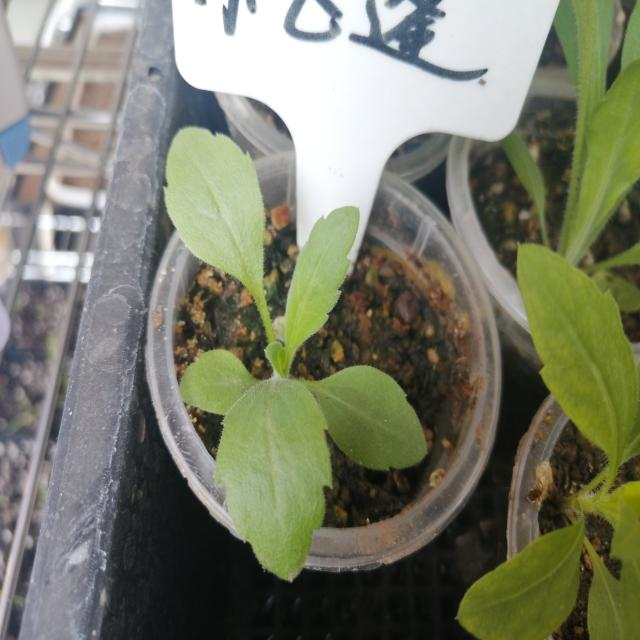horseweed: (156, 89, 425, 572)
